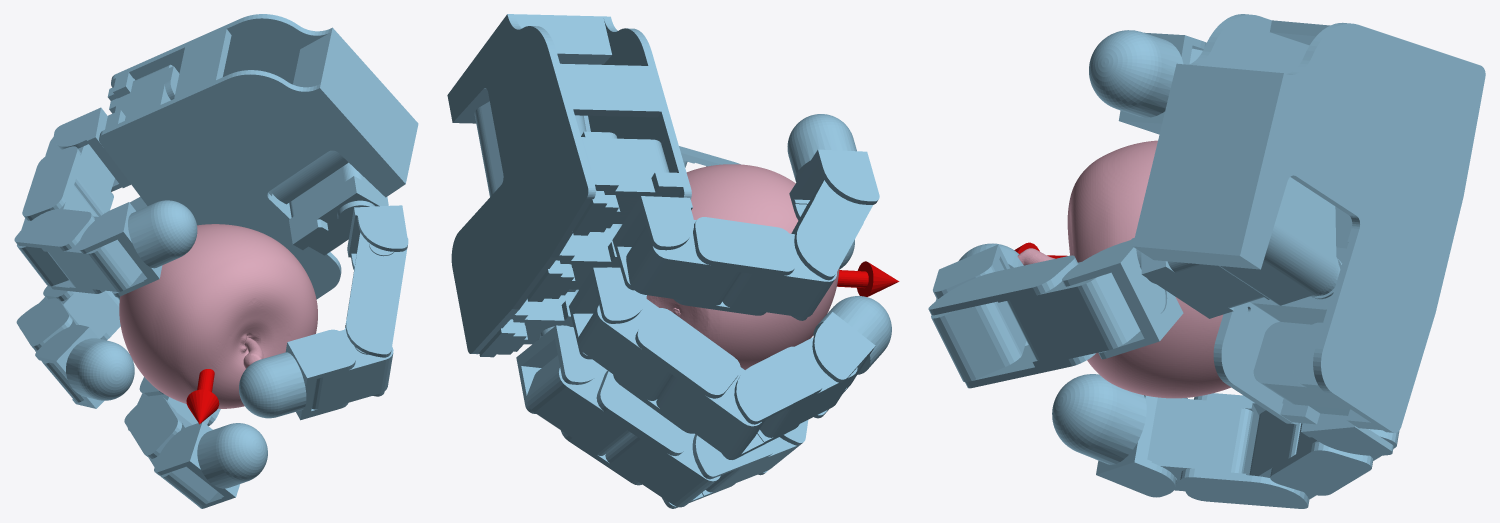
The picture shows the model from 3 angles, left to right: view 1: azimuth 30°, elevation 25°; view 2: azimuth 150°, elevation 25°; view 3: azimuth 270°, elevation 25°; orthographic projection. The views are drawn at different scales.
Parts seen in each view (by area): view 1: world, apple.stl; view 2: world, apple.stl; view 3: world, apple.stl.
Part boxes in pixels (box(x1,y1,x2,y2)): world: box(14, 14, 418, 508); apple.stl: box(119, 224, 317, 408); world: box(447, 14, 899, 508); apple.stl: box(646, 164, 839, 369); world: box(928, 14, 1485, 508); apple.stl: box(1017, 140, 1230, 398).
Size of the model in its own units: 0.1727 by 0.182 by 0.1649.
